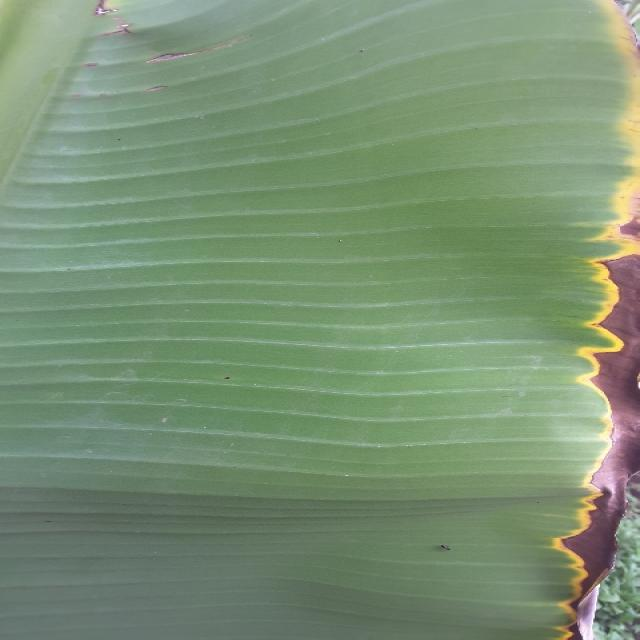Cordana: (436, 0, 640, 640), (63, 0, 217, 94)
